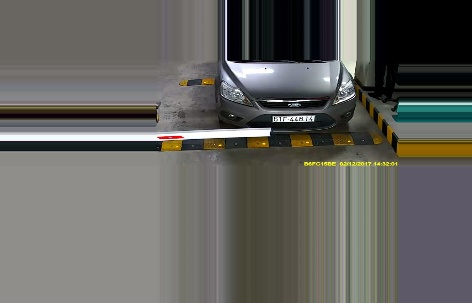plate: (273, 111, 316, 125)
